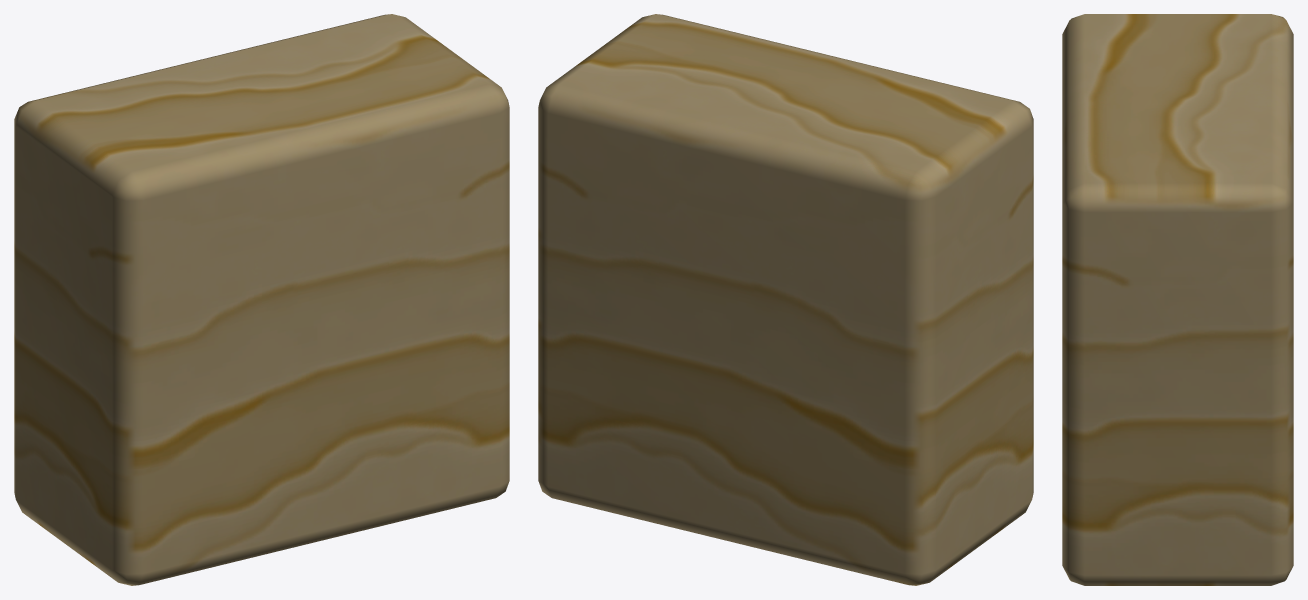
File: SM_Platform_1m_Half_01_B.glb
3 renders of one model, left to right at view 1: azimuth 30°, elevation 25°; view 2: azimuth 150°, elevation 25°; view 3: azimuth 270°, elevation 25°, orthographic. The views are drawn at different scales.
Parts seen in each view (by area): view 1: SM_Platform_1m_Half_01_B; view 2: SM_Platform_1m_Half_01_B; view 3: SM_Platform_1m_Half_01_B.
Boxes of the visible parts, left/top/right/bottom form: SM_Platform_1m_Half_01_B: left=14, top=14, right=509, bottom=585; SM_Platform_1m_Half_01_B: left=538, top=14, right=1033, bottom=585; SM_Platform_1m_Half_01_B: left=1062, top=14, right=1293, bottom=585.
Size of the model in its own units: 1 by 1 by 0.52.
1 material, 1 textured.
